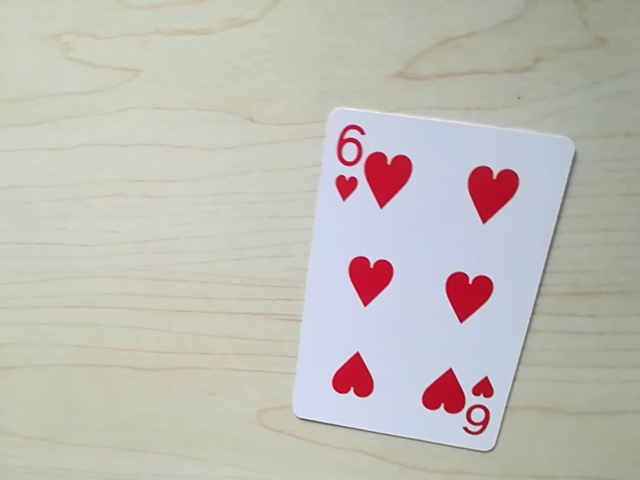hx 6: (330, 114, 376, 181), (454, 388, 497, 446)
